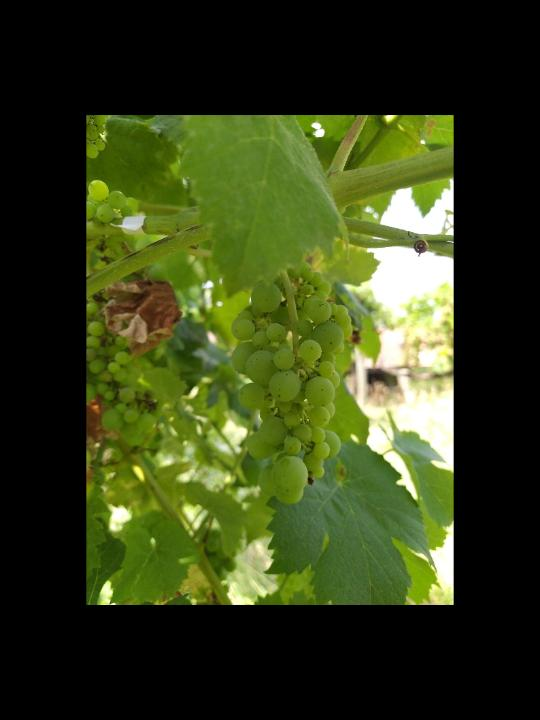grape: (231, 261, 354, 507)
